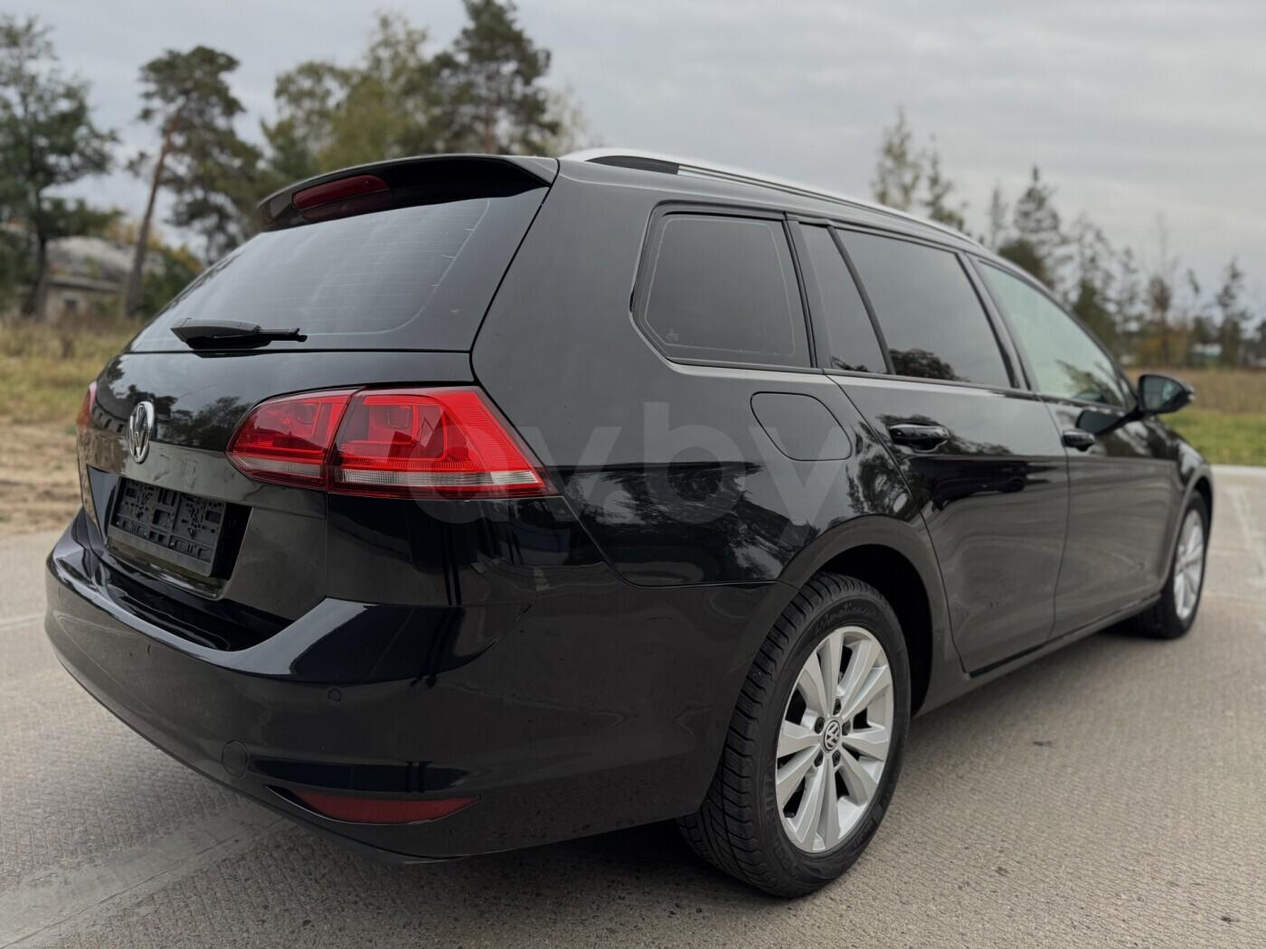Golf_2012-2017: (38, 147, 1219, 905)
